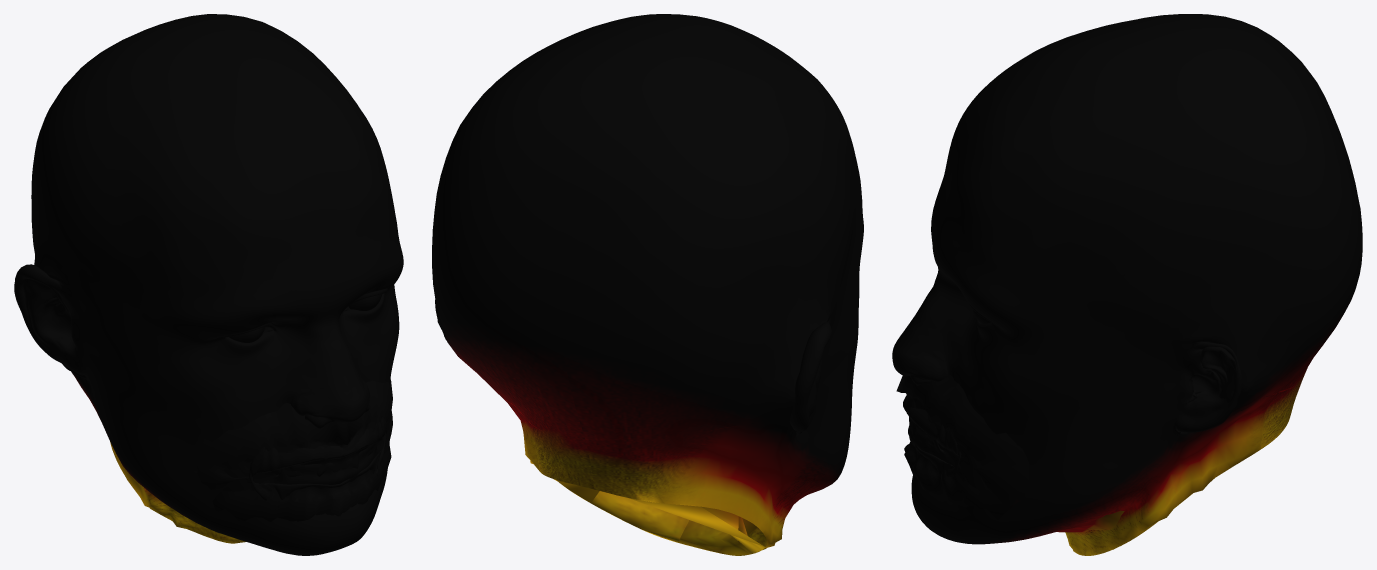
Rendered from MEL_11.glb.
3 views of the same model, side by side, from view 1: azimuth 30°, elevation 25°; view 2: azimuth 150°, elevation 25°; view 3: azimuth 270°, elevation 25° (orthographic). The views are drawn at different scales.
Parts seen in each view (by area): view 1: MEL_11; view 2: MEL_11; view 3: MEL_11.
Part boxes in pixels (x1,y1,x2,y2): MEL_11: [14, 14, 403, 555]; MEL_11: [432, 14, 863, 555]; MEL_11: [892, 14, 1362, 555].
Size of the model in its own units: 0.2207 by 0.3068 by 0.2527.
Materials: 1 (1 with a texture image).
